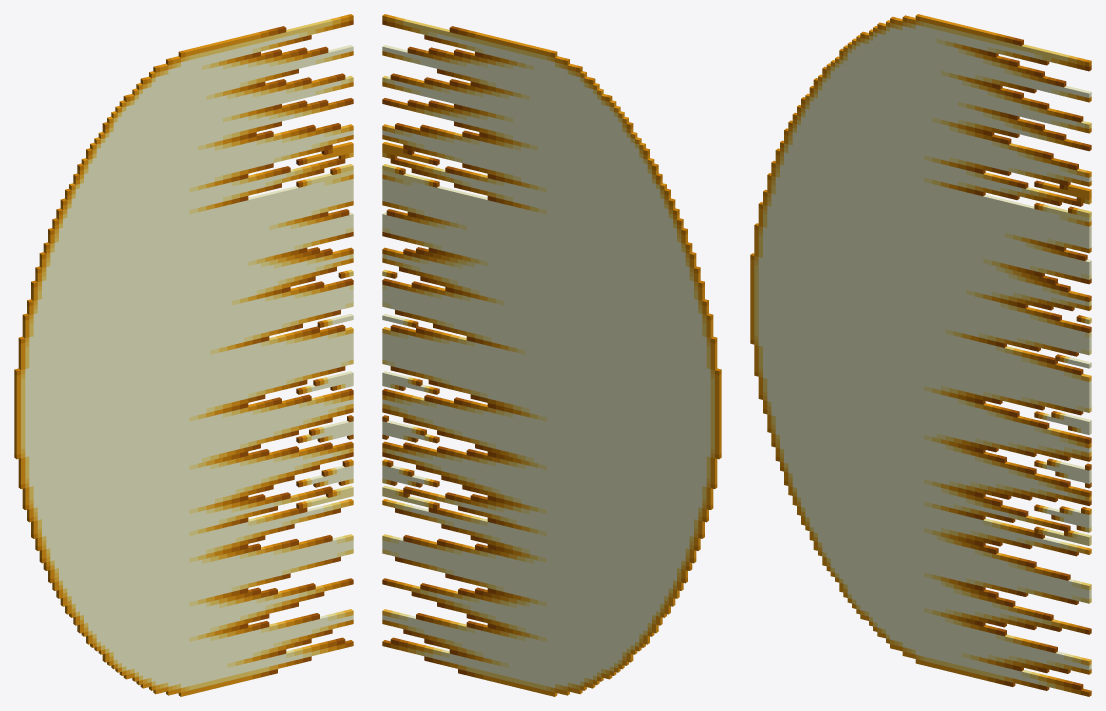
The model's file is Fight_101_3_10_fx.obj.
3 views of the same model, side by side, from view 1: azimuth 30°, elevation 25°; view 2: azimuth 150°, elevation 25°; view 3: azimuth 330°, elevation 25° (orthographic).
Bounding box in the file's own units: 8 × 14.6 × 0.1.
Materials: 1 (1 with a texture image).
